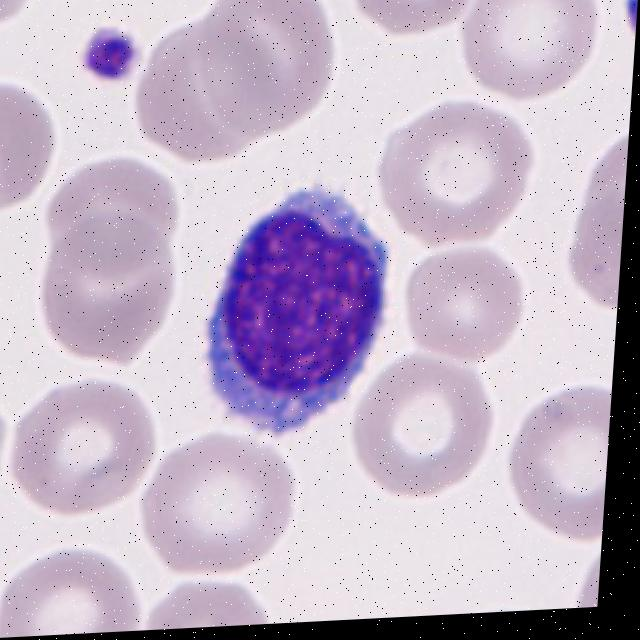lymphocyte: (199, 178, 390, 432)
platelets: (77, 22, 144, 86), (621, 0, 639, 42)
rbc: (374, 104, 542, 254), (134, 433, 297, 577), (32, 222, 187, 371), (3, 374, 163, 518), (202, 0, 343, 147), (144, 12, 275, 159), (351, 355, 492, 489), (39, 158, 182, 288), (509, 377, 613, 542), (464, 0, 606, 98), (0, 547, 147, 638), (400, 254, 519, 353), (0, 80, 60, 218), (567, 191, 625, 318), (145, 574, 274, 630), (579, 120, 630, 220), (354, 0, 492, 31), (0, 371, 18, 528), (574, 550, 601, 608), (462, 596, 541, 614), (0, 0, 38, 27), (0, 535, 4, 640)
